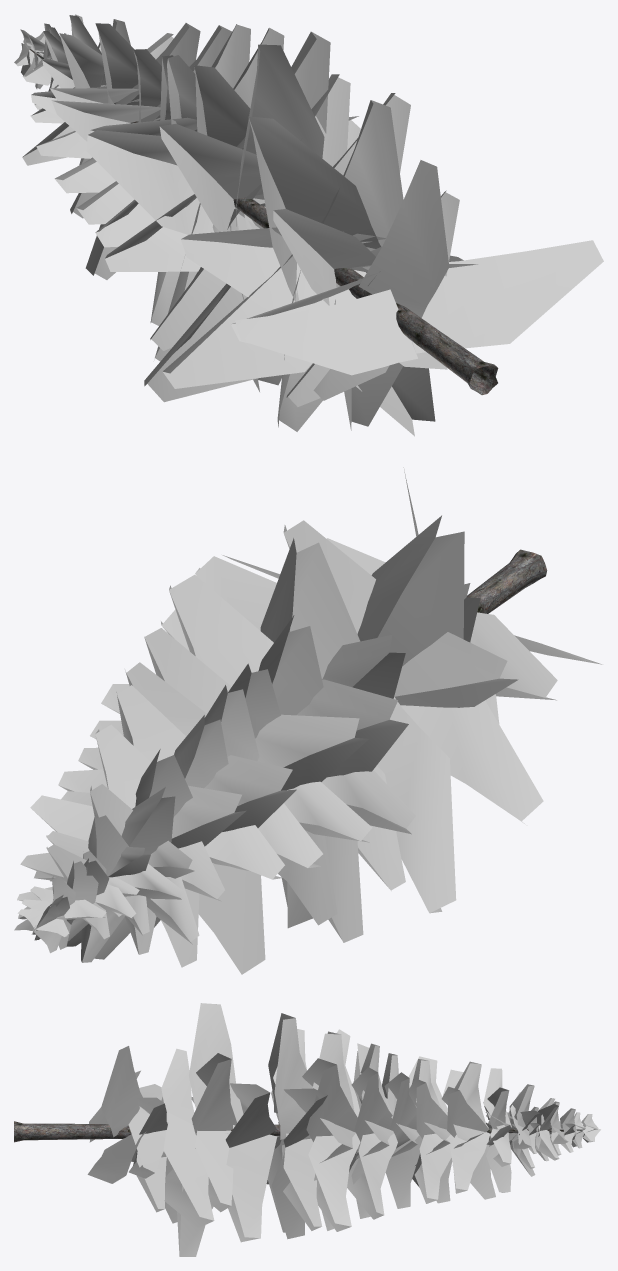
The model's file is Spruce-Firtree1.FBX.
3 views of the same model, one above another, from view 1: azimuth 30°, elevation 25°; view 2: azimuth 150°, elevation 25°; view 3: azimuth 270°, elevation 25° (orthographic). The views are drawn at different scales.
Parts seen in each view (by area): view 1: trunk_01; view 2: trunk_01; view 3: trunk_01.
Boxes of the visible parts, x1=… form: trunk_01: x1=14, y1=14, x2=603, y2=436; trunk_01: x1=14, y1=467, x2=602, y2=974; trunk_01: x1=14, y1=1003, x2=600, y2=1256.
Size of the model in its own units: 19.45 by 17.84 by 43.27.
